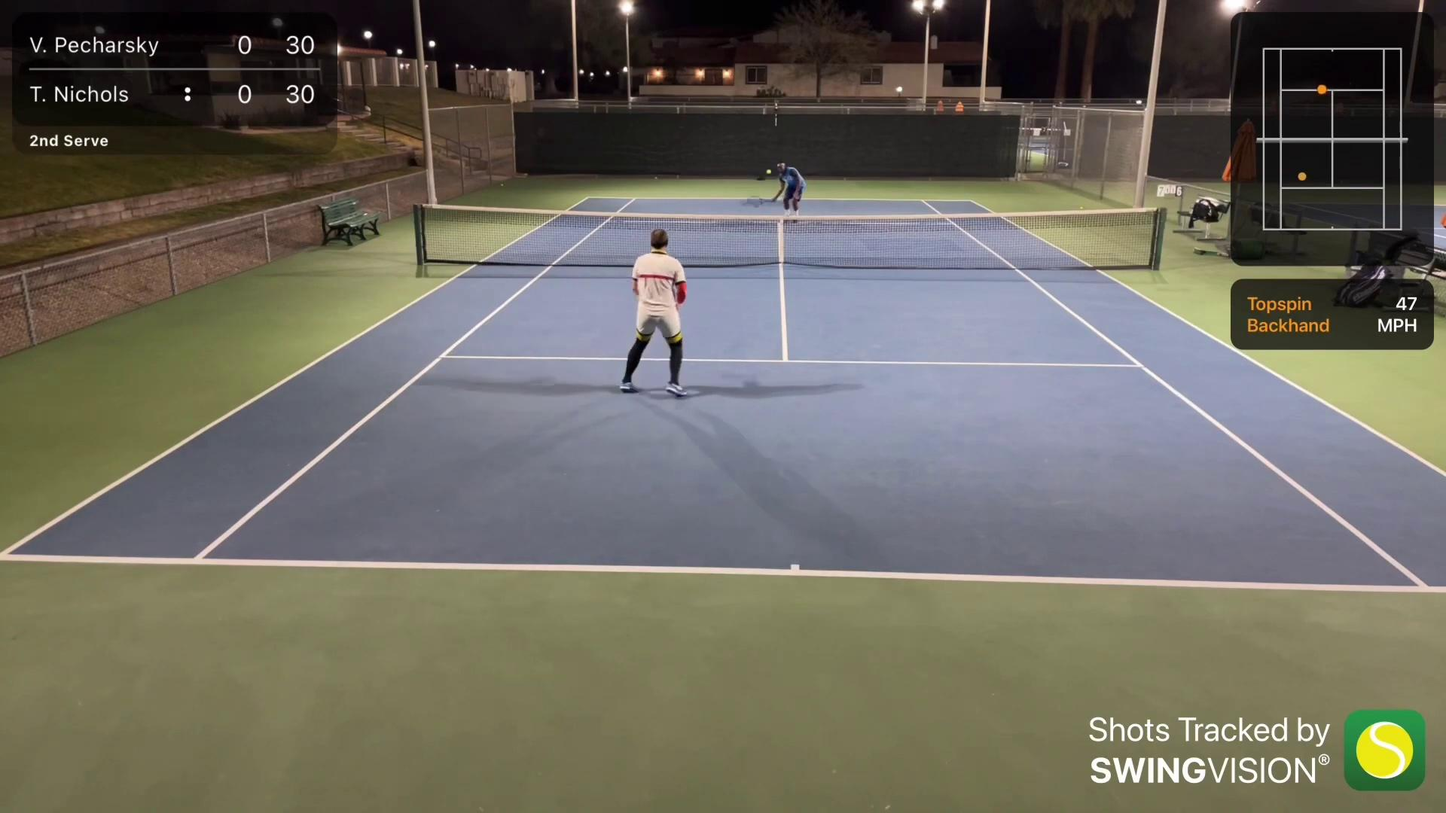ball: (766, 168, 772, 175), (653, 175, 659, 181), (500, 183, 505, 188)
